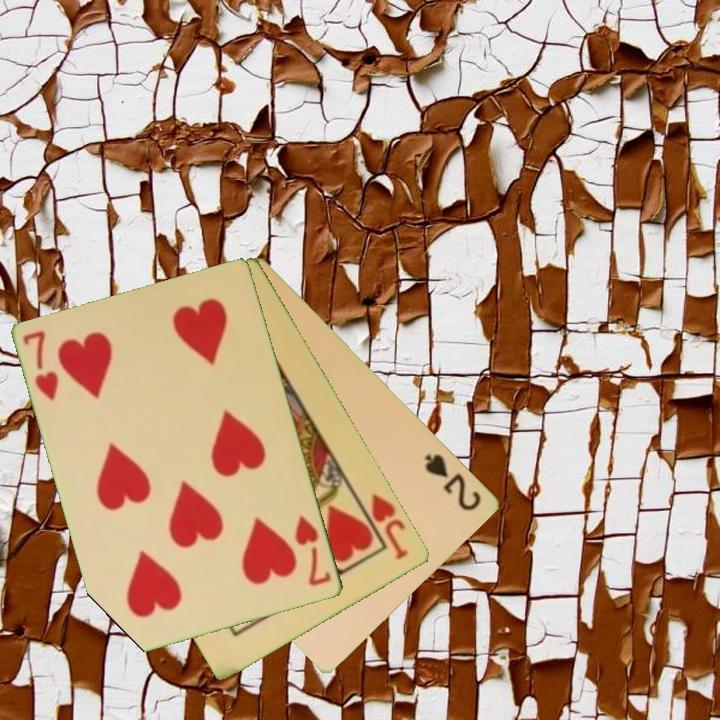2s: (421, 450, 485, 514)
7h: (292, 511, 335, 589), (20, 327, 62, 404)
Jh: (354, 490, 412, 563)
